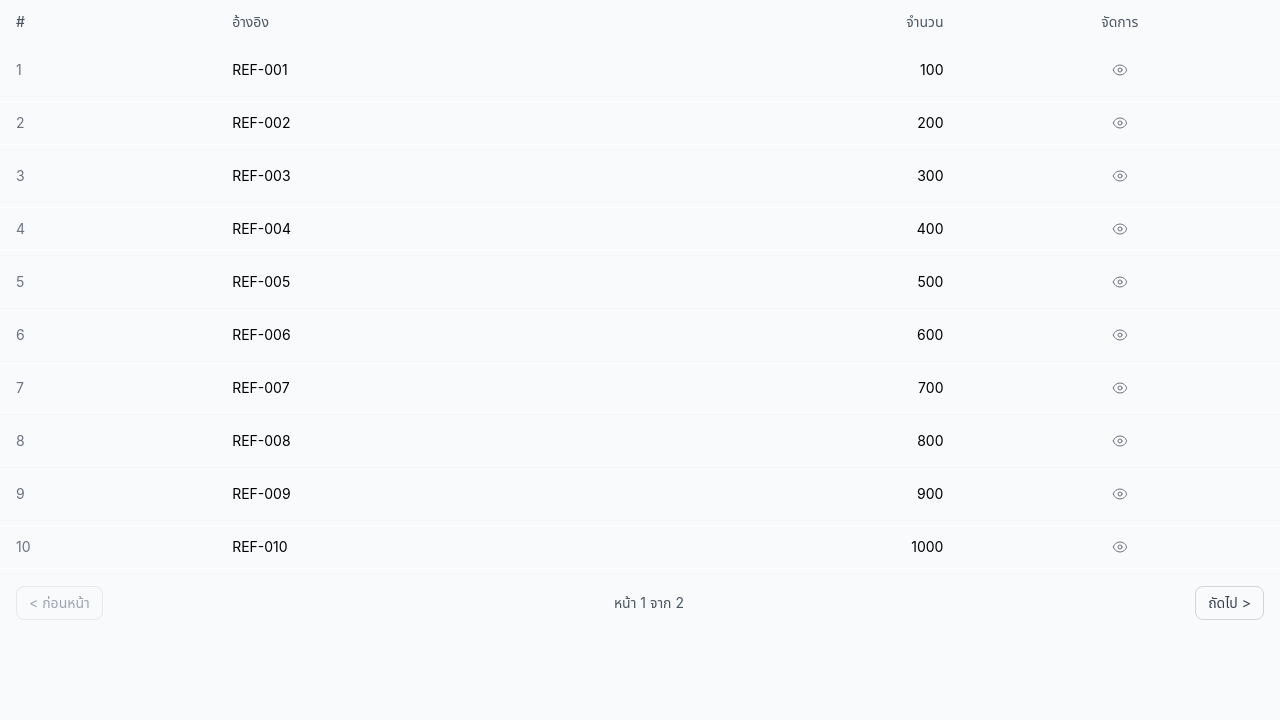
it: TransactionTable › pagination › navigates to next page when "ถัดไป" is clicked
This screenshot has width=1280, height=720.
Click the button "ถัดไป >".
click(1230, 603)  # box [1195,586,1264,620]
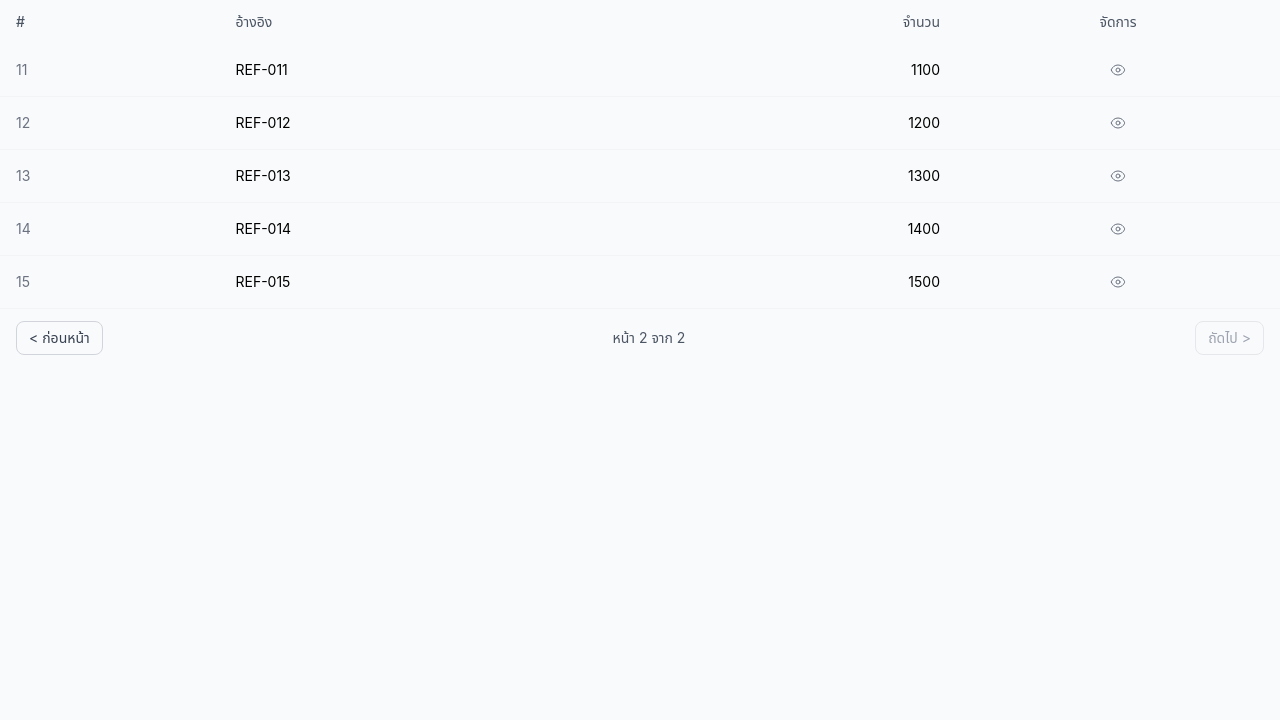
expect the text "หน้า 2 จาก 2" is shown: met, box [612,328,685,348]
